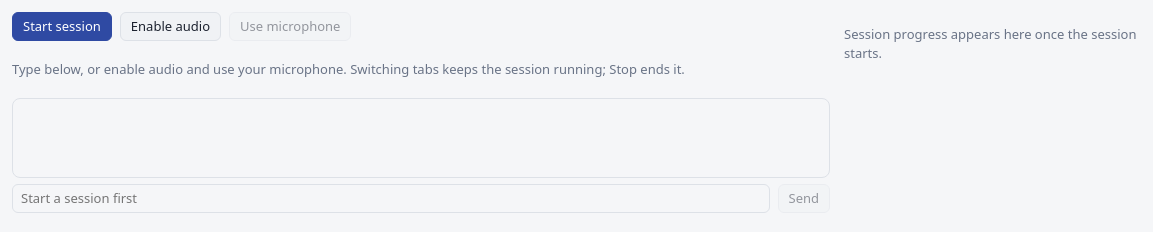
Test case: Studio audio › releases media and ignores callbacks belonging to a stopped session
Click the button "Start session".
click(62, 26)  # box [12,12,112,41]
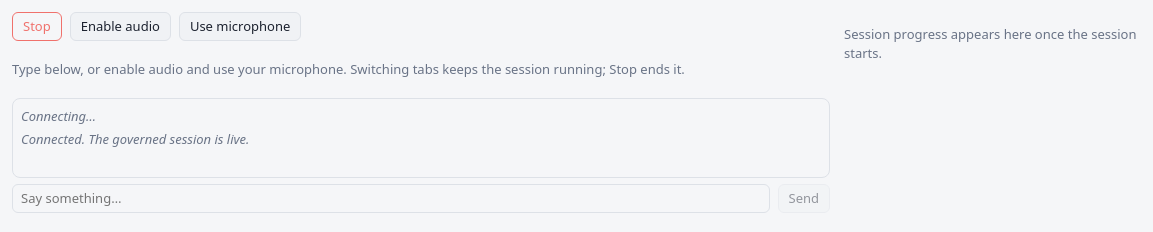
Click the button "Use microphone".
click(240, 26)  # box [179,12,301,41]
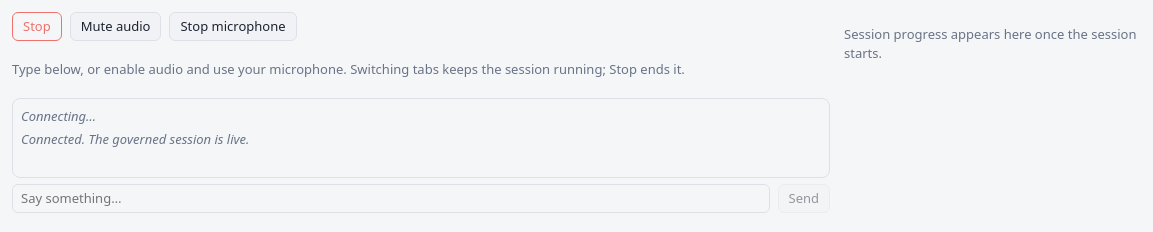
Click the button "Stop".
click(37, 26)  # box [12,12,62,41]
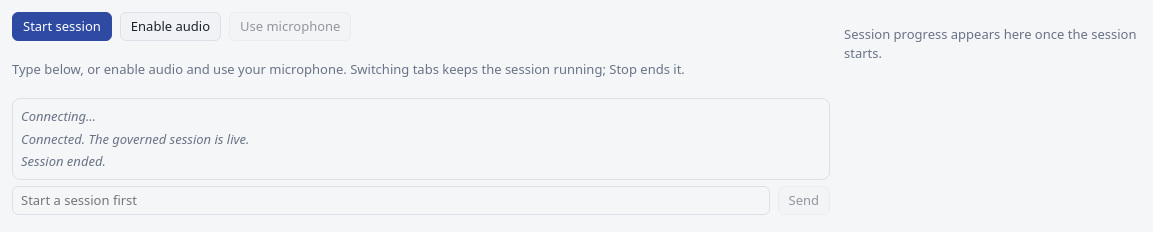
Click the button "Start session".
click(62, 26)  # box [12,12,112,41]
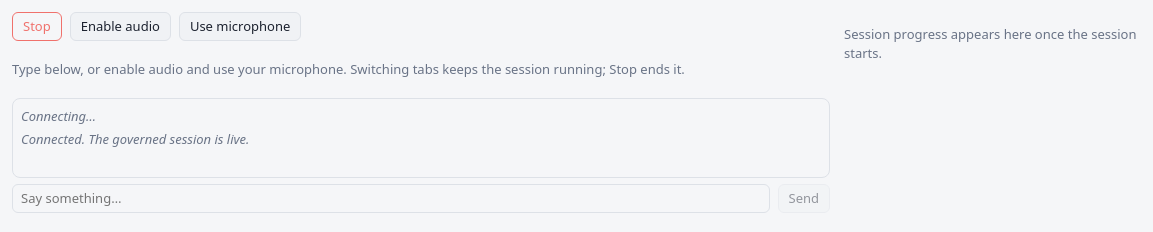
Check: the button "Use microphone" is enabled, box [179,12,301,41]
